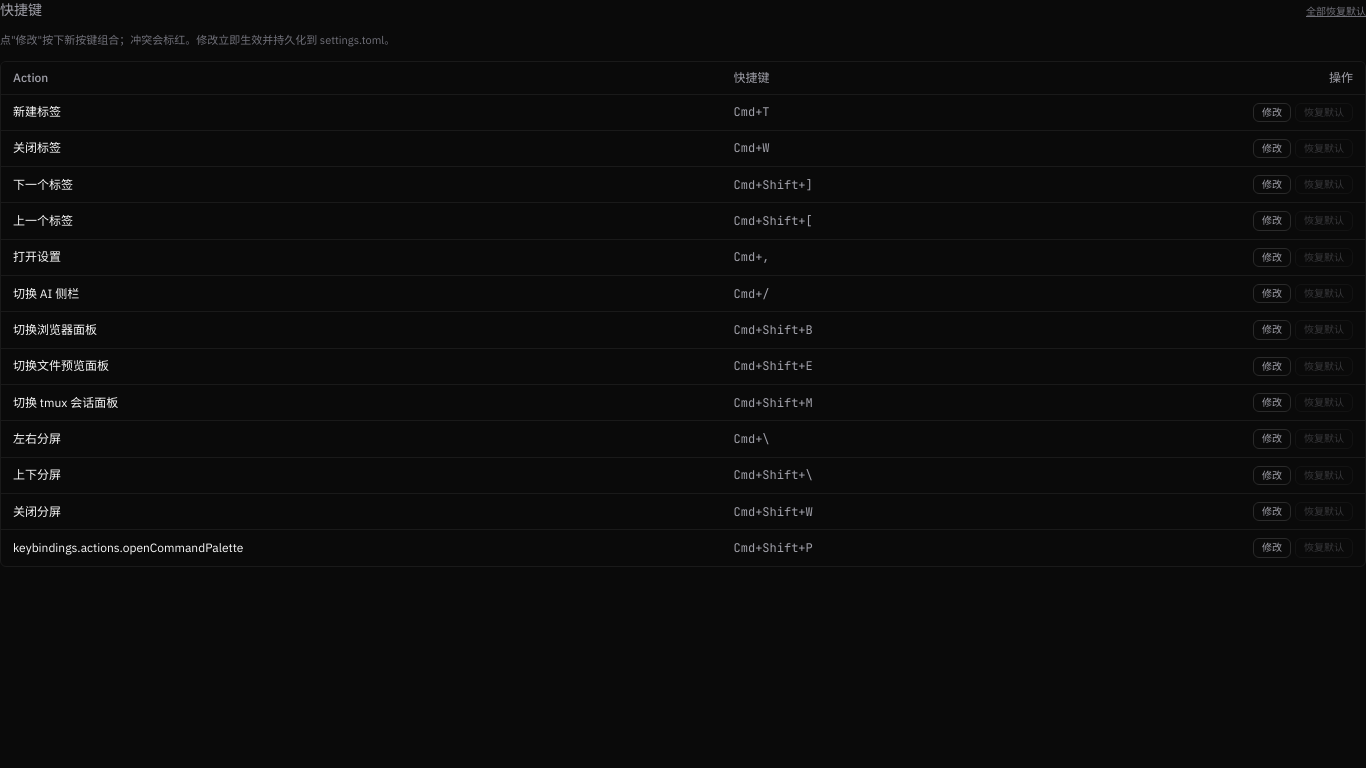
KeybindingsSection › 点 修改 弹 capture dialog → 按 Cmd+Shift+N → 确认 → 写 store
Click the button with test id "keybinding-edit-newTab" at (1272, 112), box [1253,102,1291,122]
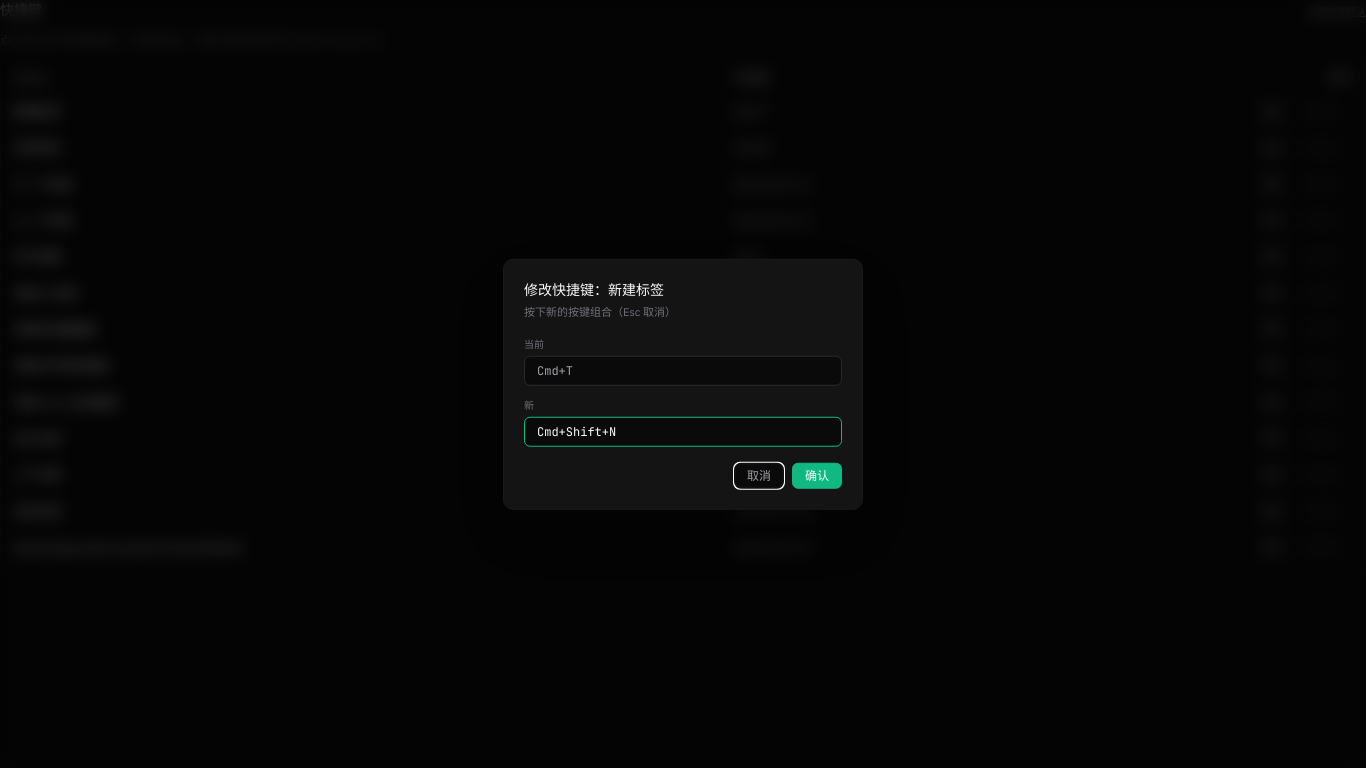
expect the dialog with test id "keybinding-capture-dialog" is shown: met, box [503,259,863,509]
expect the text with test id "keybinding-capture-preview" reads "Cmd+Shift+N": met, box [537,423,616,439]
Click the button with test id "keybinding-capture-confirm" at (817, 475), box [792,462,842,488]
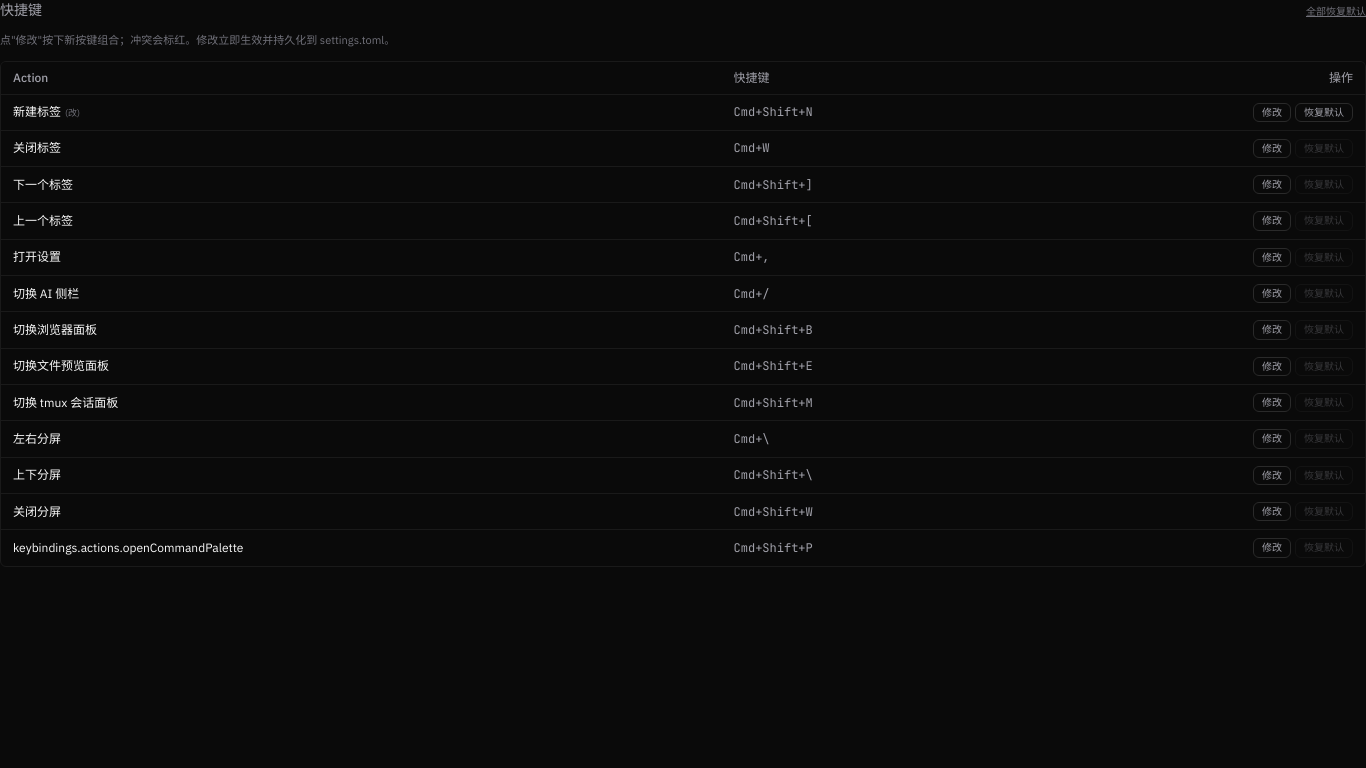
expect the cell "Cmd+Shift+N" is shown: met, box [722,94,1014,130]
